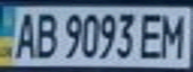0: (78, 9, 100, 60)
3: (115, 9, 139, 60)
9: (60, 9, 84, 60), (97, 10, 118, 60)
A: (9, 9, 39, 60)
B: (30, 9, 60, 60)
E: (136, 9, 166, 60)
M: (157, 10, 190, 60)
